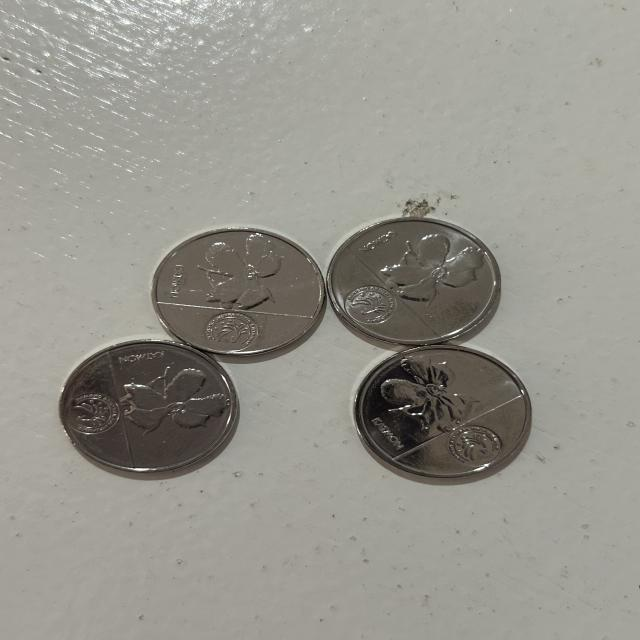25Cent_New_Back: (373, 354, 481, 428), (188, 233, 288, 310), (377, 230, 472, 302), (125, 359, 216, 431)
